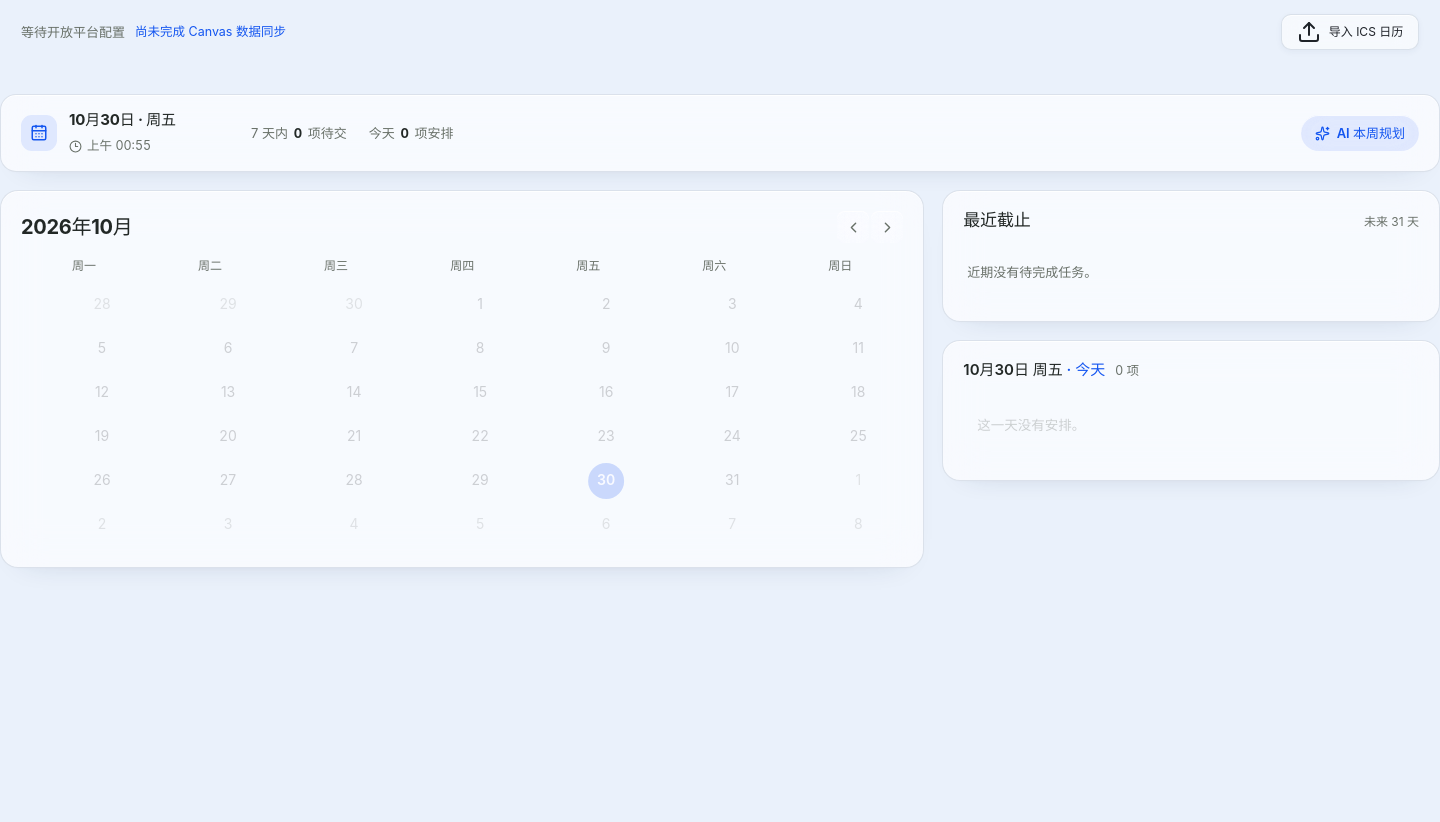
Scenario: ScheduleView › clears an ICS status notice so the same result can be announced again
Click the button "导入 ICS 日历" at (1350, 32), box [1281,14,1419,50]
Wait 5000 ms
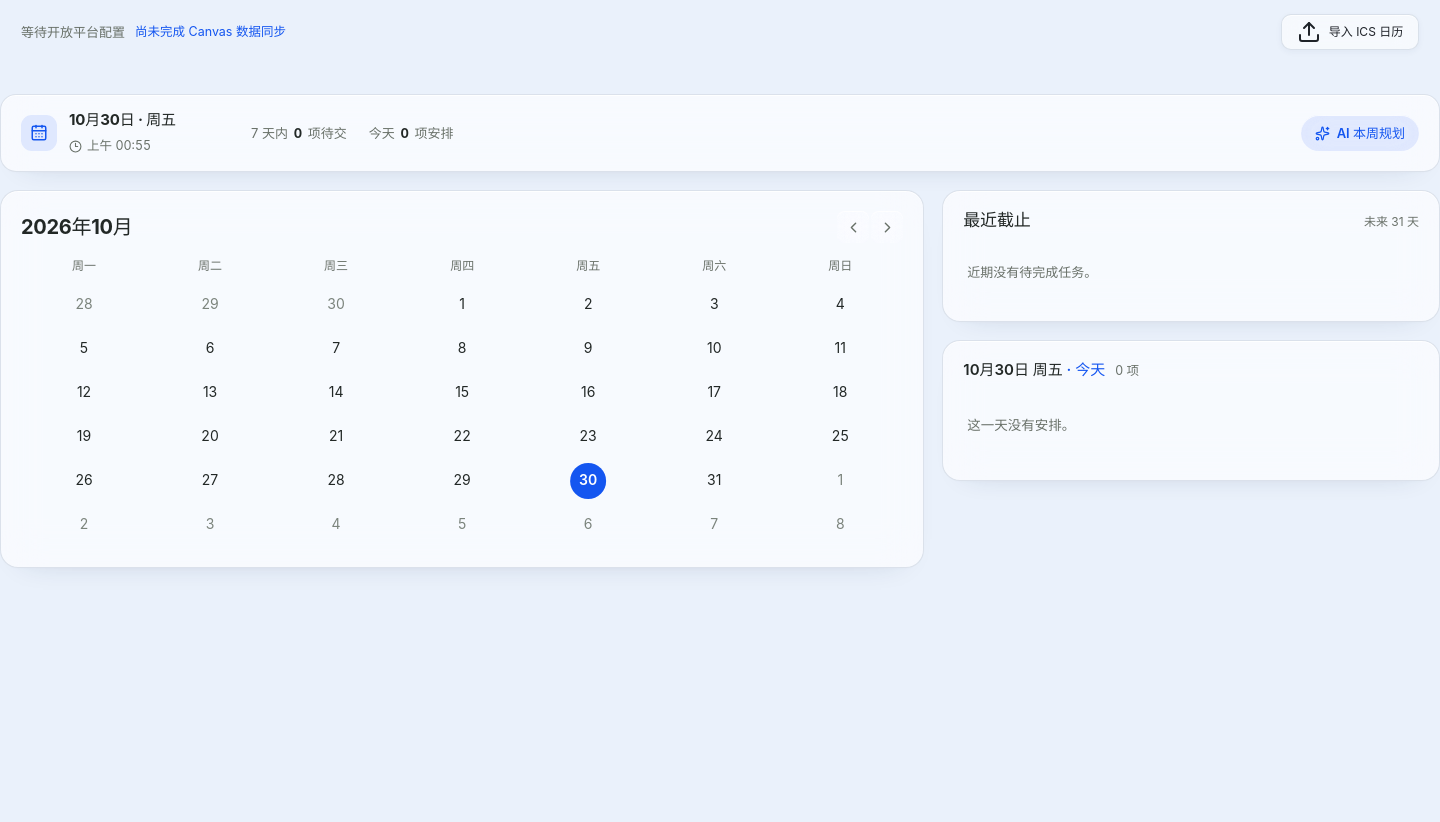
Expected: the text "已导入 2 门课程" is shown, [135,24,286,39]
Expected: the text "已导入 2 门课程" is not shown
Click the button "导入 ICS 日历" at (1350, 32), box [1281,14,1419,50]
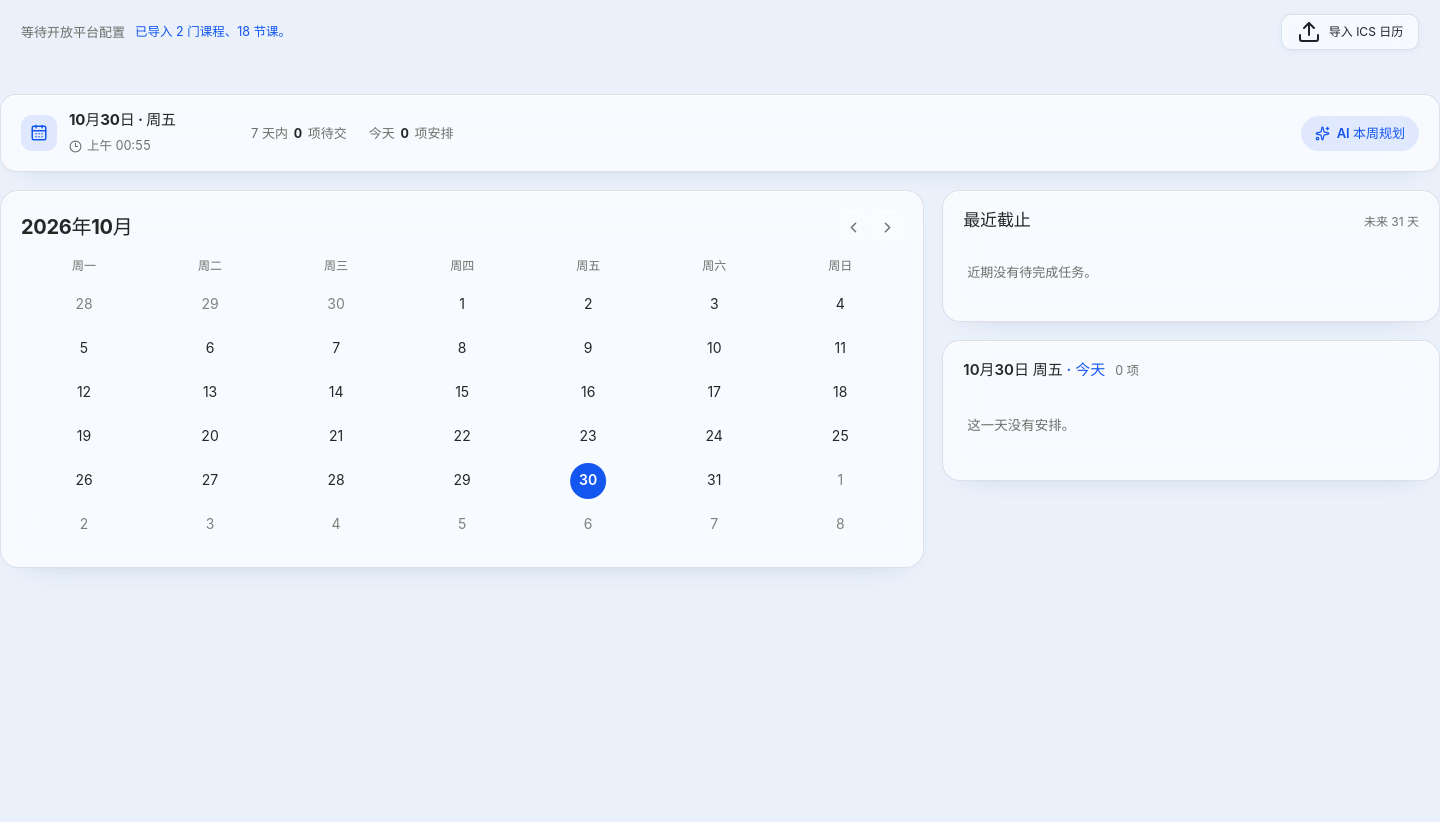
Expected: the text "已导入 2 门课程、18 节课。" is shown, [135,24,291,39]
